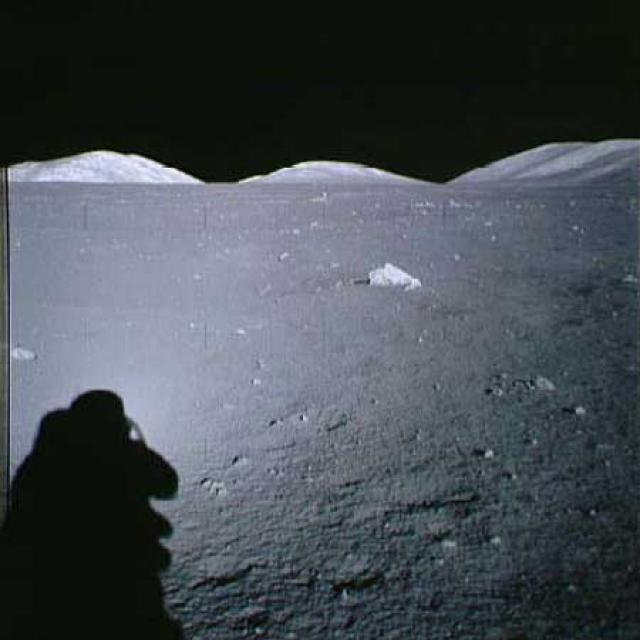rock: (368, 260, 424, 292), (10, 339, 40, 364), (531, 372, 556, 394)
